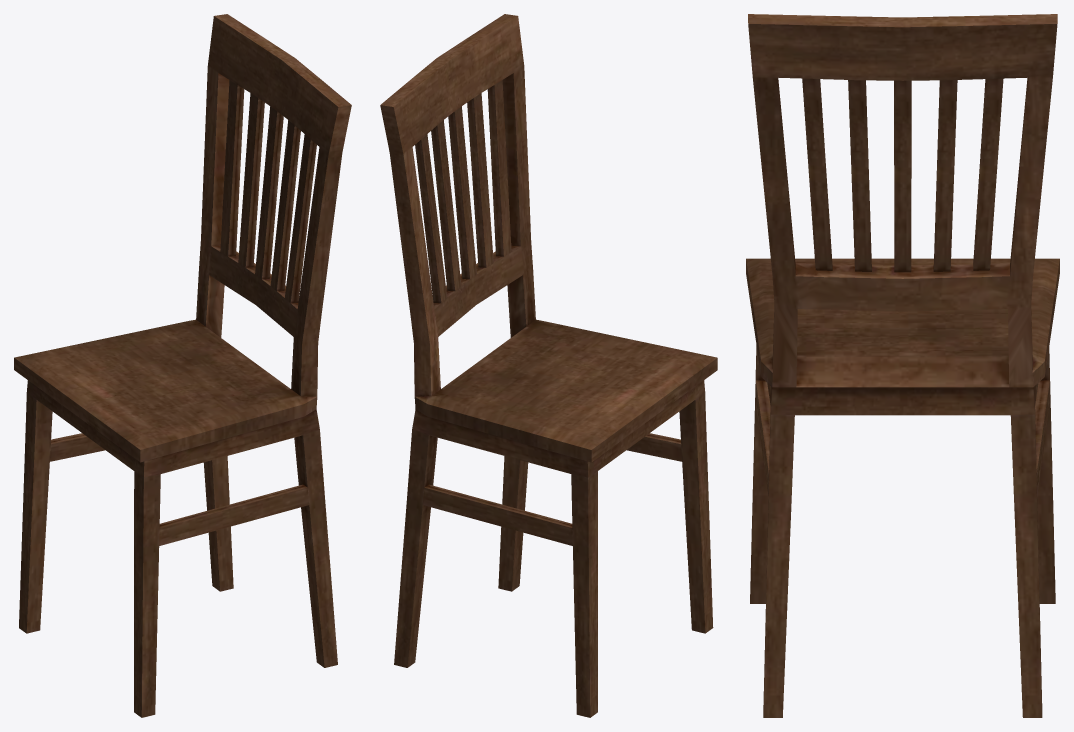
File: chair.glb
The picture shows the model from 3 angles, left to right: view 1: azimuth 30°, elevation 25°; view 2: azimuth 150°, elevation 25°; view 3: azimuth 270°, elevation 25°; orthographic projection. The views are drawn at different scales.
Parts seen in each view (by area): view 1: silla_low_madera_mesas_sillas_0; view 2: silla_low_madera_mesas_sillas_0; view 3: silla_low_madera_mesas_sillas_0.
Boxes of the visible parts, box(x1,y1,x2,y2) form: silla_low_madera_mesas_sillas_0: box(14, 14, 351, 717); silla_low_madera_mesas_sillas_0: box(380, 14, 717, 717); silla_low_madera_mesas_sillas_0: box(746, 14, 1059, 717).
Bounding box in the file's own units: 0.4623 × 1.14 × 0.4638.
Materials: 1 (1 with a texture image).
